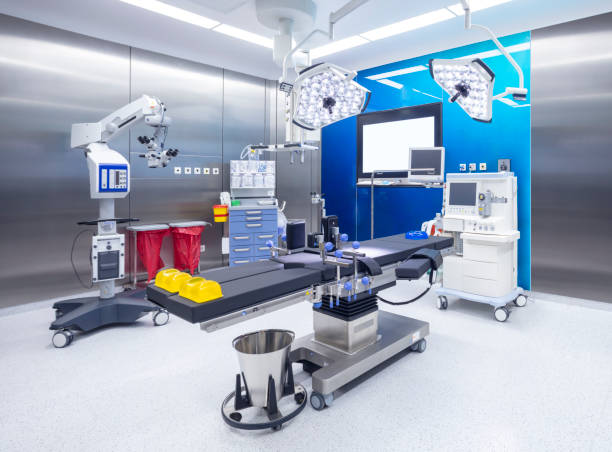bedside_monitor: (356, 102, 446, 185), (447, 171, 477, 211), (408, 149, 443, 182)
dispenser: (231, 159, 276, 188)
handle: (230, 247, 253, 255), (255, 245, 280, 251), (244, 214, 264, 221), (256, 235, 279, 241), (256, 257, 274, 264), (230, 236, 253, 241), (242, 223, 264, 228), (231, 259, 251, 264), (243, 210, 265, 214)
medical_drawer: (227, 204, 280, 279)
operating_bed: (147, 233, 454, 332)
surgical_light: (291, 62, 371, 131), (429, 57, 498, 124)
ventilator: (432, 171, 523, 315)
waste_bin: (221, 329, 307, 432), (124, 222, 172, 293), (168, 222, 213, 275), (283, 219, 309, 252)
